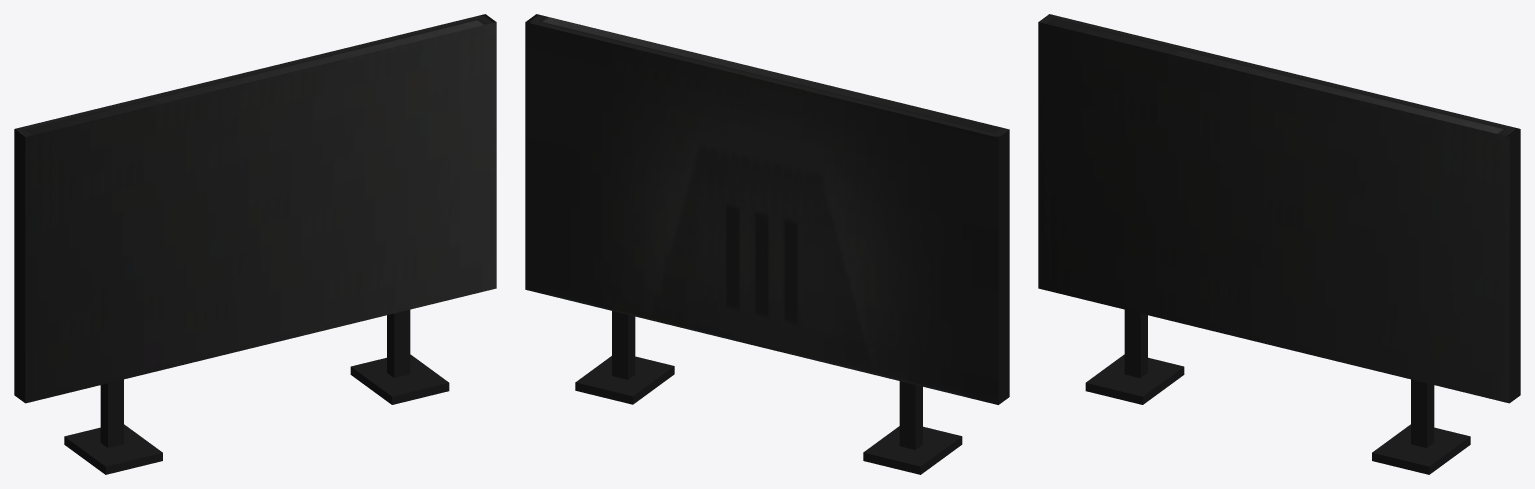
File: Building_MegascreenTelevision.obj
3 views of the same model, side by side, from view 1: azimuth 30°, elevation 25°; view 2: azimuth 150°, elevation 25°; view 3: azimuth 330°, elevation 25° (orthographic).
Visible parts, largest first — view 1: Body; view 2: Body; view 3: Body.
Part boxes in pixels (bbox=[...]): Body: bbox=[14, 14, 496, 474]; Body: bbox=[525, 14, 1009, 474]; Body: bbox=[1038, 14, 1520, 474].
Bounding box in the file's own units: 2.96 × 2.05 × 0.45.
1 material, 1 textured.
